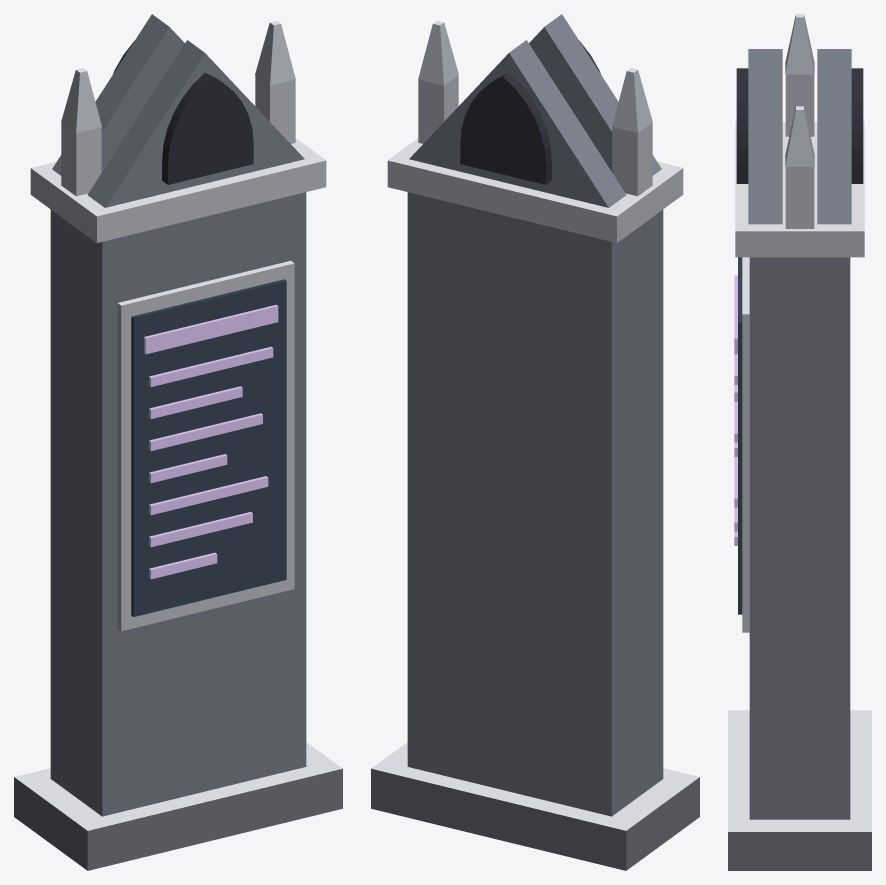
The model's file is PR_Painel_Partidas.fbx.
3 views of the same model, side by side, from view 1: azimuth 30°, elevation 25°; view 2: azimuth 150°, elevation 25°; view 3: azimuth 270°, elevation 25° (orthographic). The views are drawn at different scales.
Parts seen in each view (by area): view 1: PR_Painel_Partidas; view 2: PR_Painel_Partidas; view 3: PR_Painel_Partidas.
Boxes of the visible parts, x1=… form: PR_Painel_Partidas: x1=14, y1=14, x2=342, y2=870; PR_Painel_Partidas: x1=371, y1=14, x2=699, y2=870; PR_Painel_Partidas: x1=728, y1=14, x2=871, y2=870.
Bounding box in the file's own units: 1 × 2.92 × 0.5.
